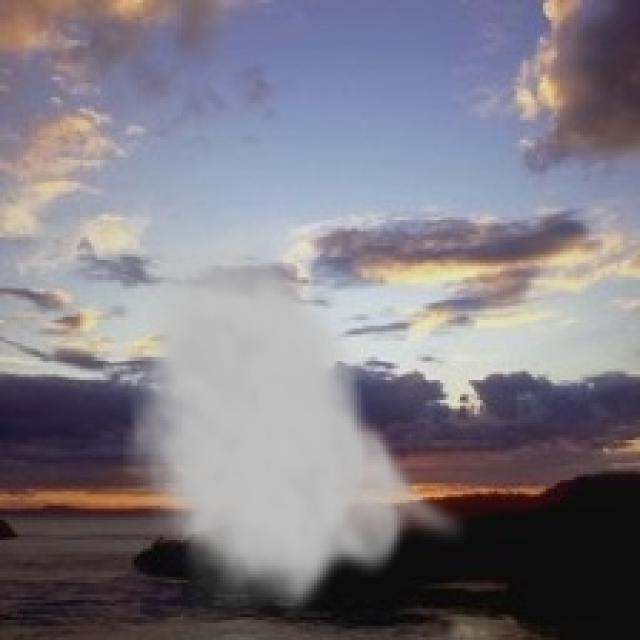Smoke: (122, 203, 472, 623)
